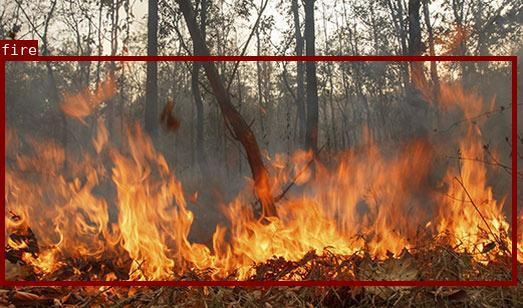fire: (0, 56, 515, 284)
